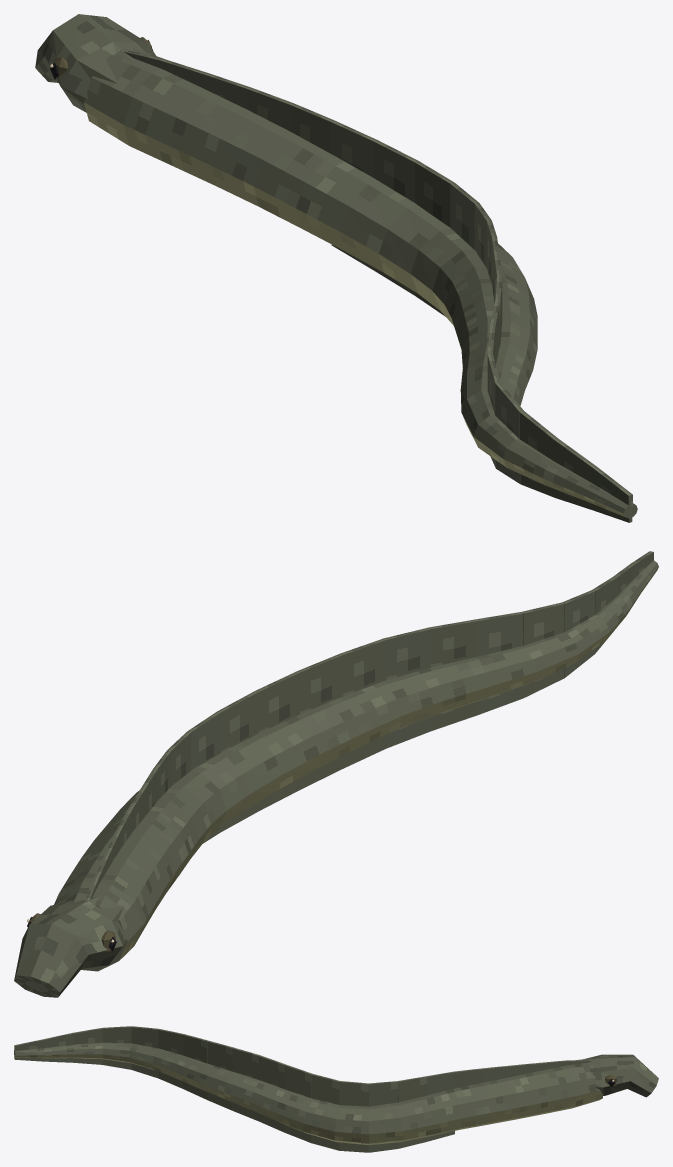
The model's file is mon_fish_eel.glb.
The picture shows the model from 3 angles, top to bottom: view 1: azimuth 30°, elevation 25°; view 2: azimuth 150°, elevation 25°; view 3: azimuth 270°, elevation 25°; orthographic projection. The views are drawn at different scales.
Visible parts, largest first — view 1: closed_body; view 2: closed_body; view 3: closed_body.
Part boxes in pixels (bbox=[...]): closed_body: bbox=[35, 14, 637, 522]; closed_body: bbox=[14, 551, 658, 997]; closed_body: bbox=[14, 1026, 658, 1152].
Size of the model in its own units: 0.2849 by 0.175 by 1.23.
Materials: 1 (1 with a texture image).
